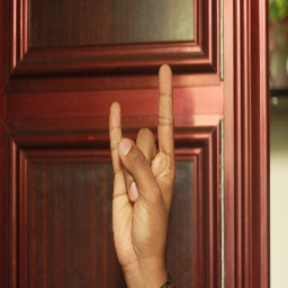V: (103, 59, 182, 259)
